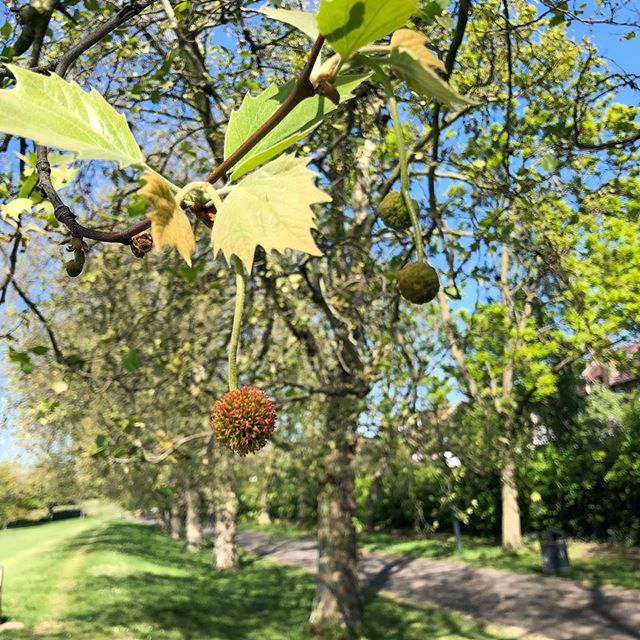vegetation: (1, 1, 635, 632)
